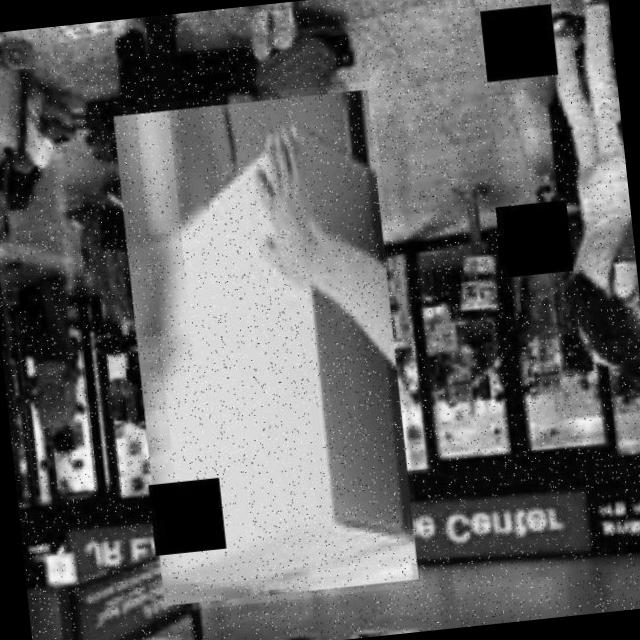box: (109, 80, 424, 613)
